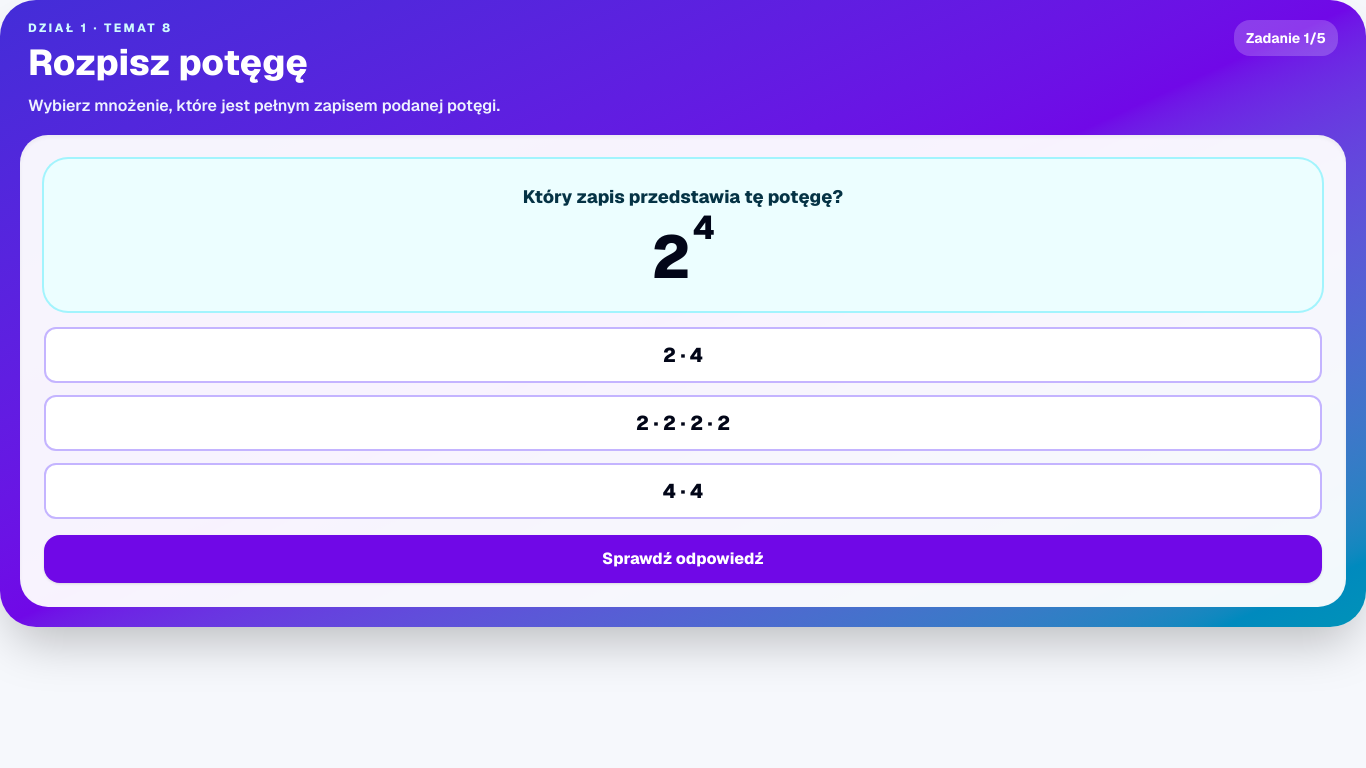
it: Grade4PowersLessonLab › zalicza poprawne rozpisanie potęgi na jednakowe czynniki
Click the button "2 · 2 · 2 · 2": (683, 423) x1=44 y1=395 x2=1322 y2=451
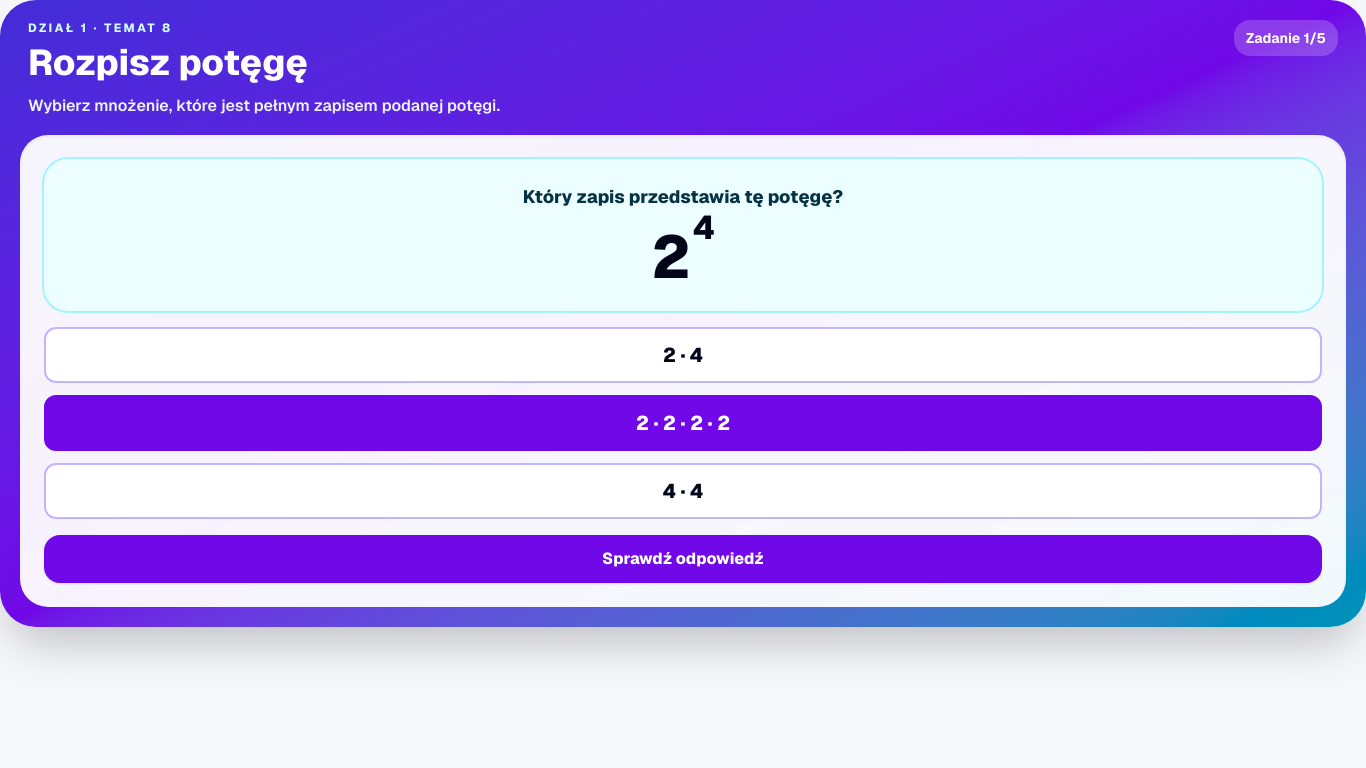
Click the button "Sprawdź odpowiedź": (683, 559) x1=44 y1=535 x2=1322 y2=583
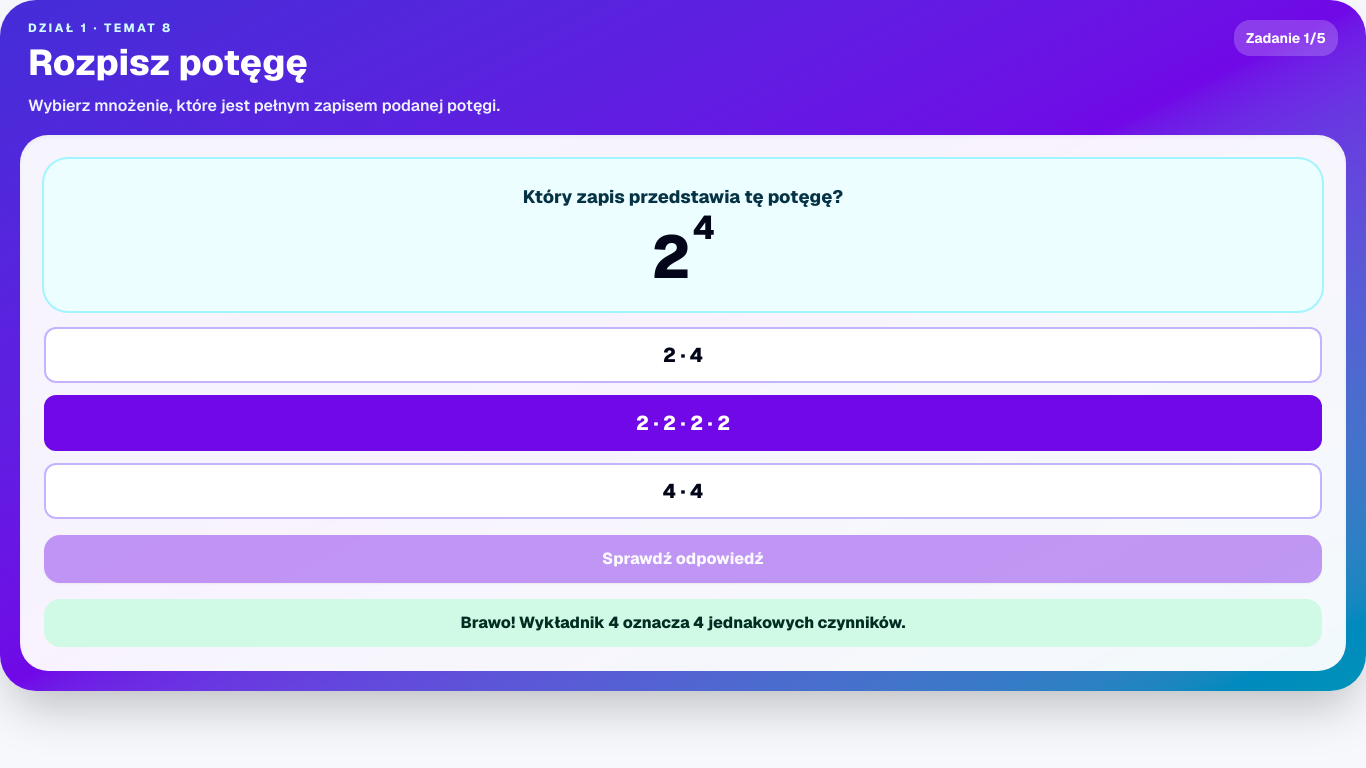
Now the message shows "Wykładnik 4 oznacza 4 jednakowych czynników.", box x1=44 y1=599 x2=1322 y2=647
